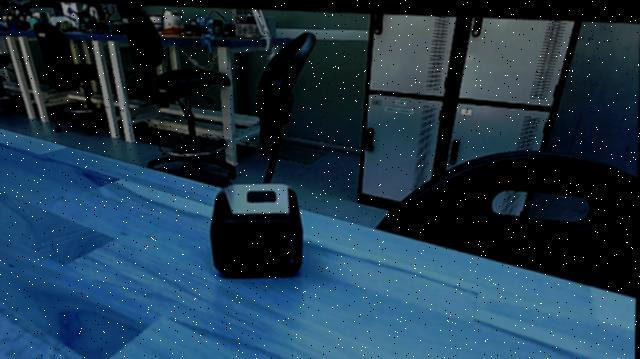adapter: (202, 176, 307, 278)
